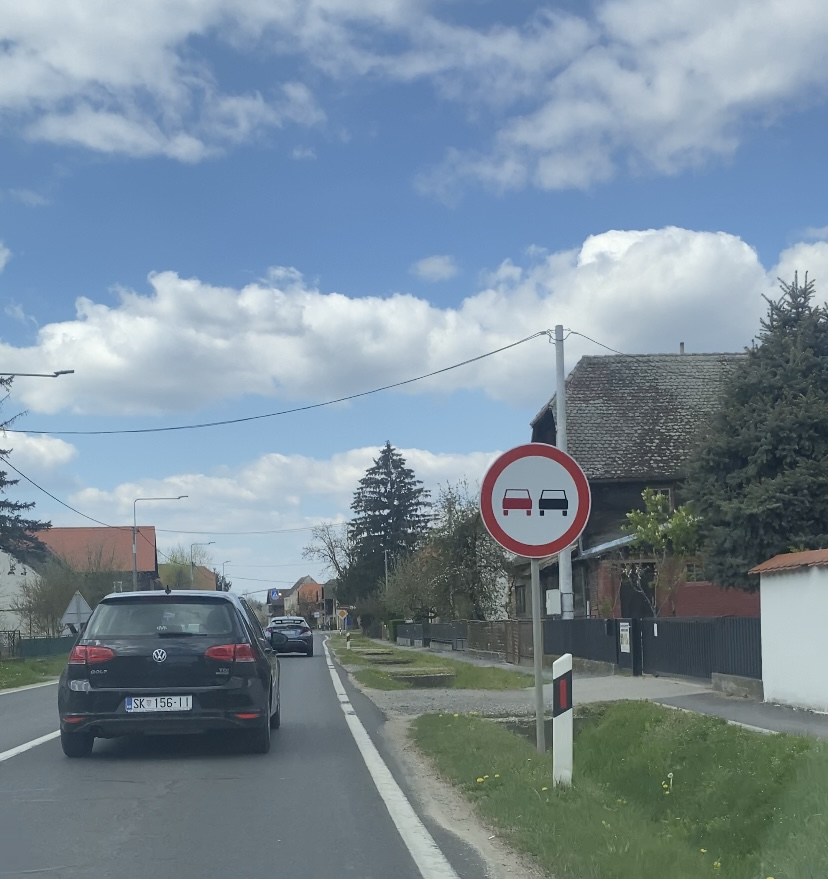Zabrana pretjecanja: (479, 443, 591, 558)
